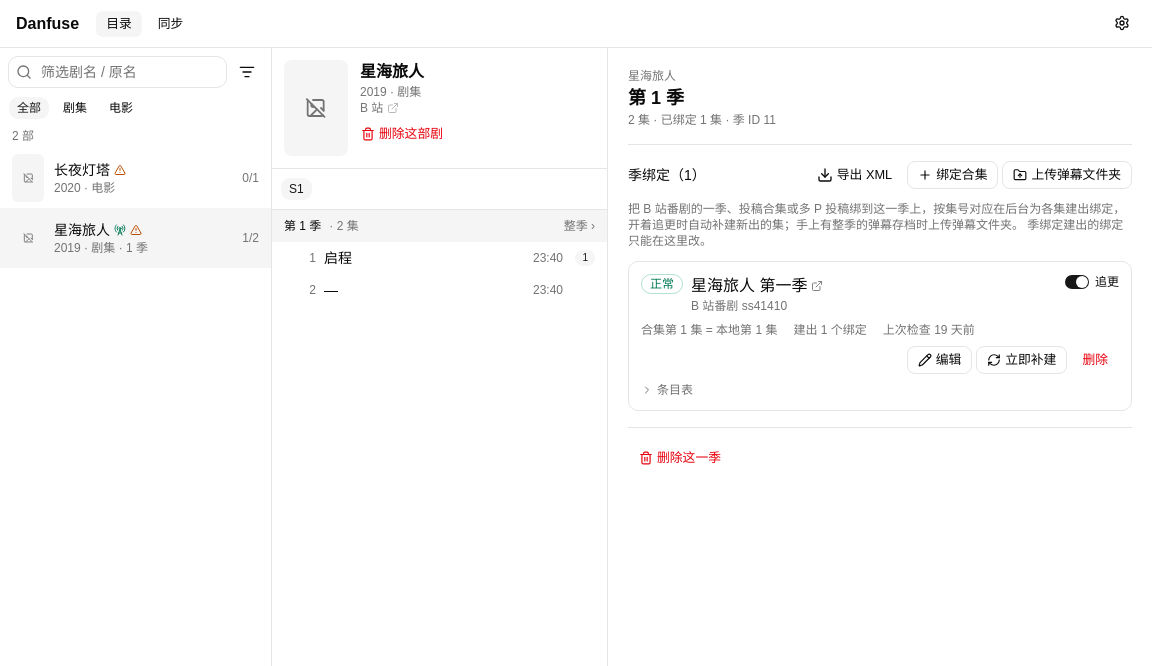
绑定合集 › 预览失败时不能创建，提示留在表单里；创建失败的提示也留在表单里
Click the button "绑定合集" at x=953, y=175, box [907,161,998,189]
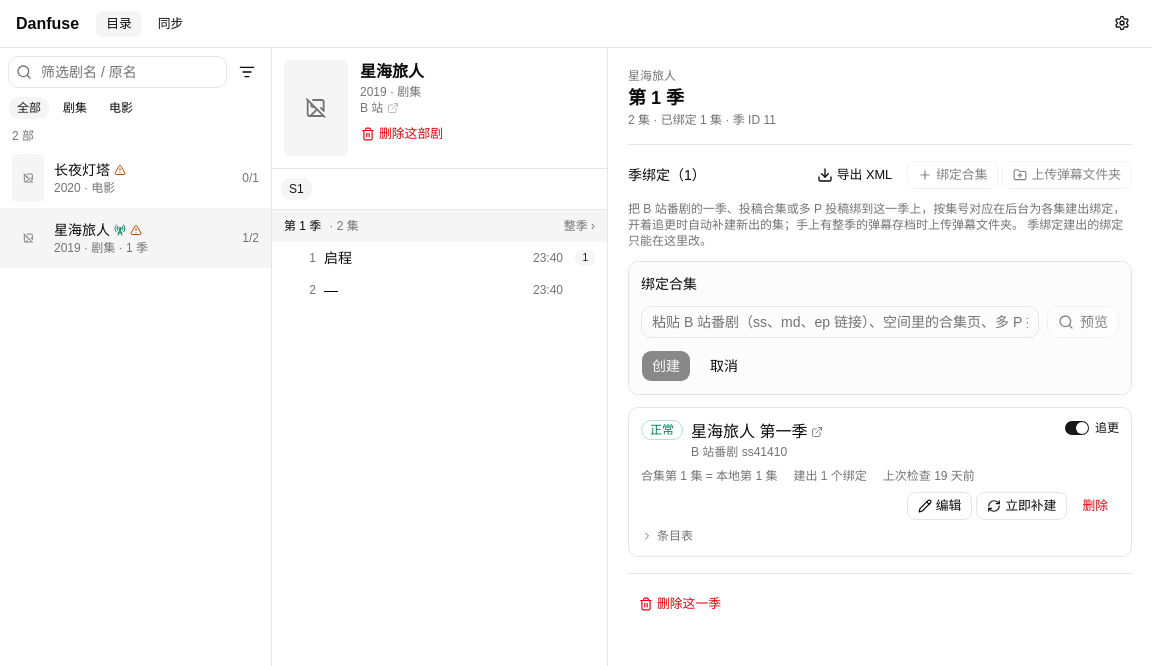
Type "https://space.bilibili.com/1/lists/2?type=series" into the field named "合集的链接" at x=840, y=322, box [641,306,1039,338]
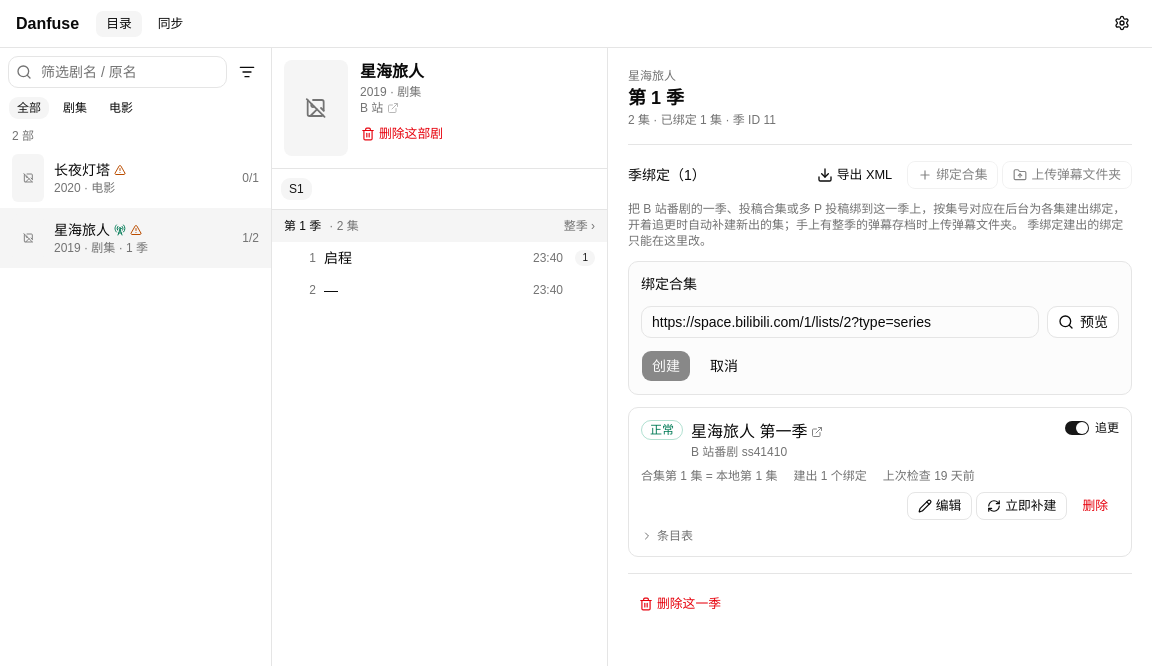
Click the button "预览" at x=1083, y=322, box [1047,306,1119,338]
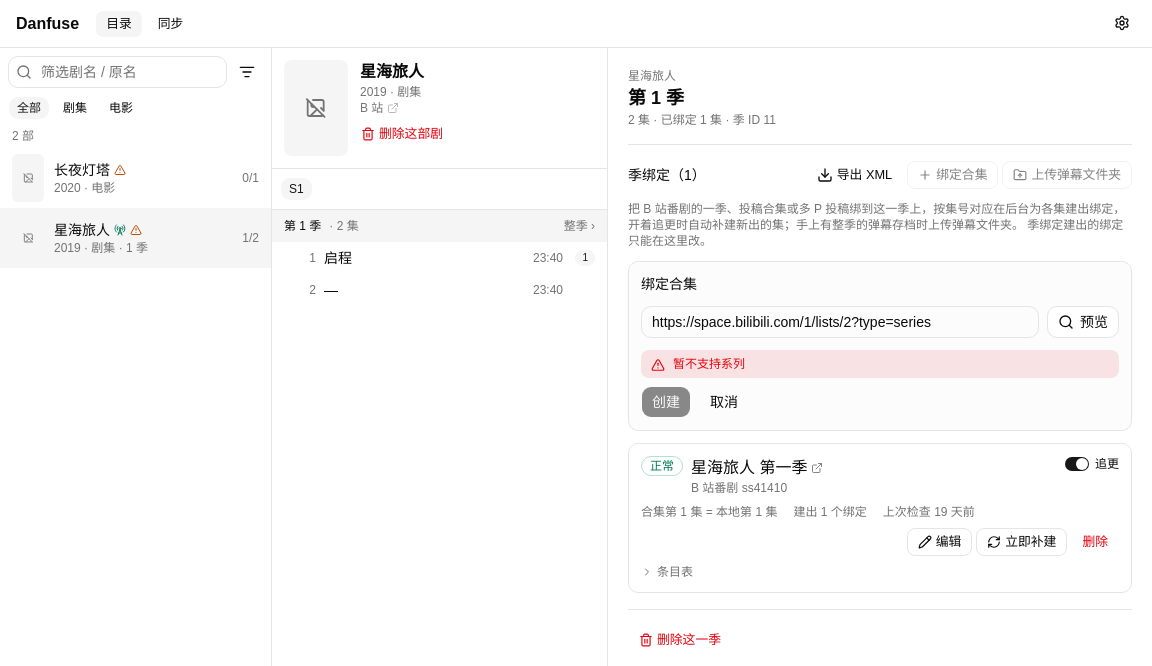
Result: the button "创建" is disabled at [641,386,691,418]
Result: the message reads "暂不支持系列" at [673,357,745,371]
Replace the text in the field named "合集的链接" with "ss36429" at x=840, y=322, box [641,306,1039,338]
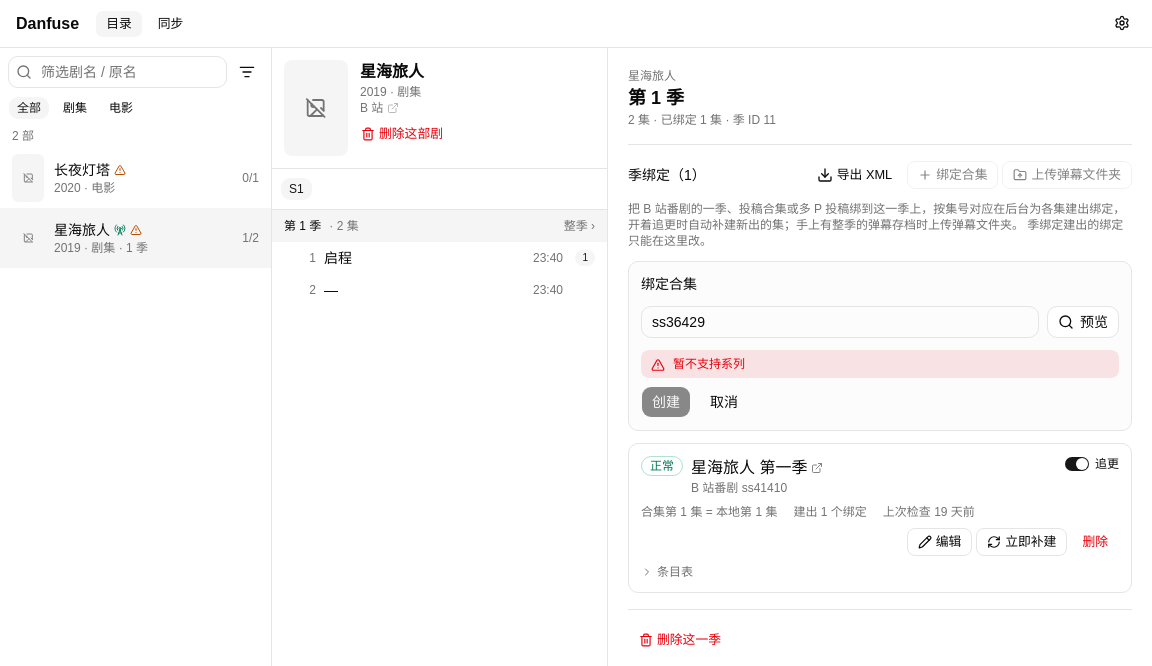
Click the button "预览" at x=1083, y=322, box [1047,306,1119,338]
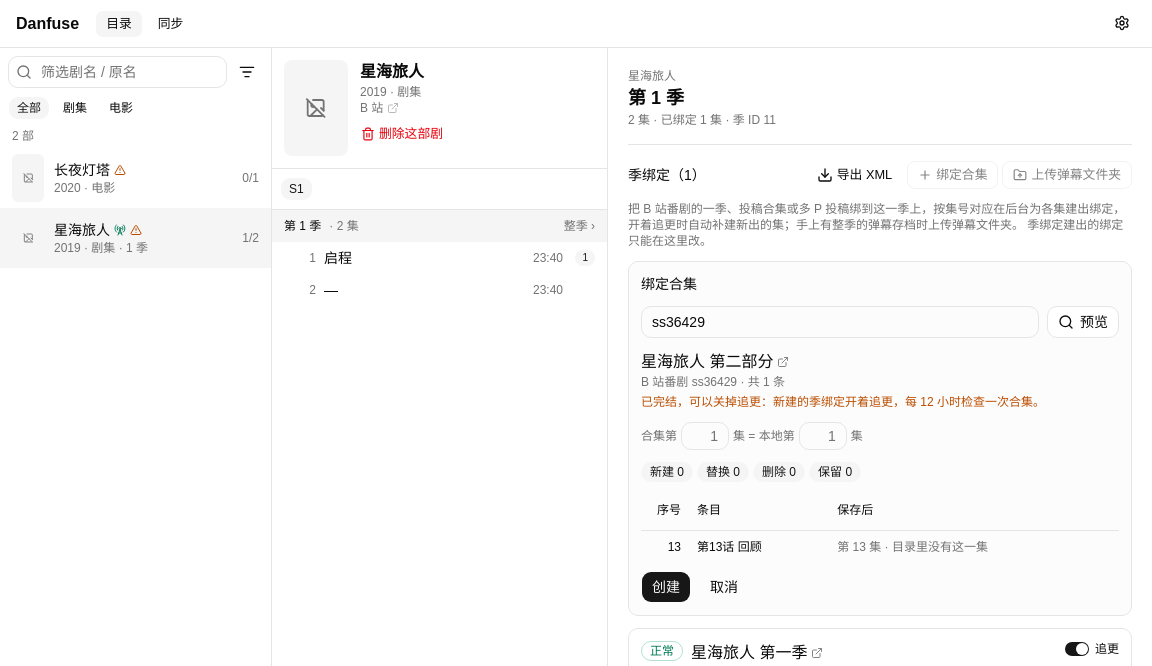
Result: the element named "预览" is shown at [641,462,1119,562]
Result: the button "创建" is enabled
Result: the message "暂不支持系列" is gone
Click the button "创建" at x=666, y=586, box [641,570,691,602]
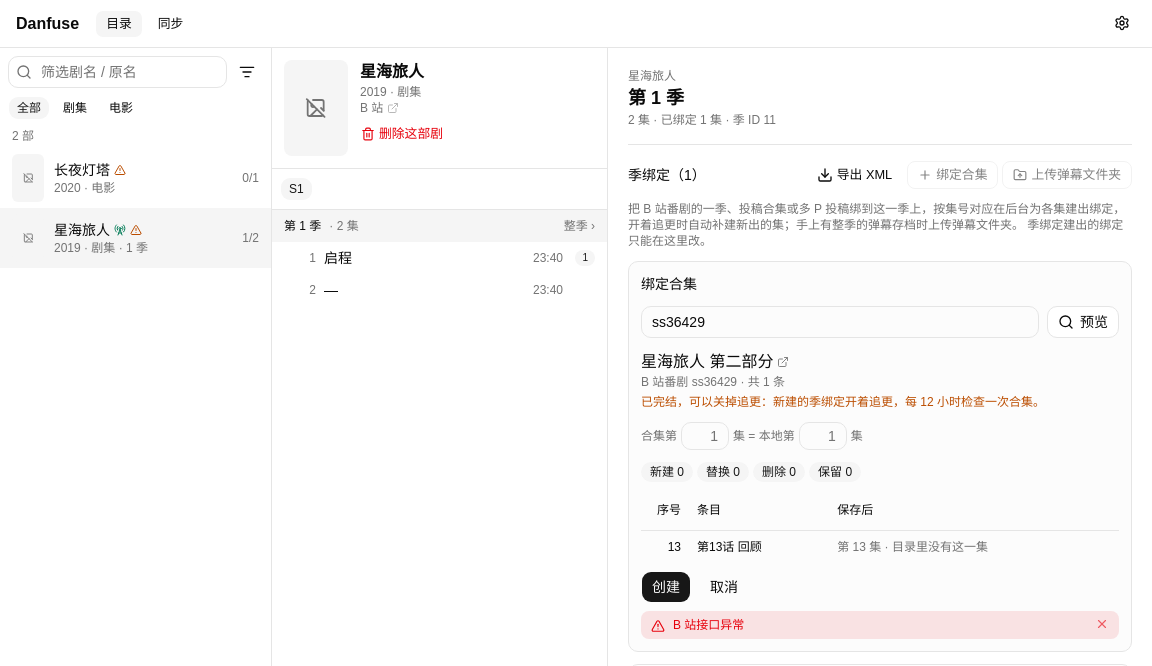
Result: the message reads "B 站接口异常" at [673,618,744,632]
